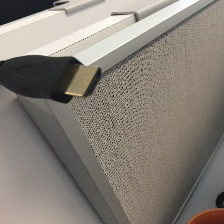hdmi_male: (50, 51, 148, 113), (109, 49, 173, 111), (89, 135, 127, 223)
